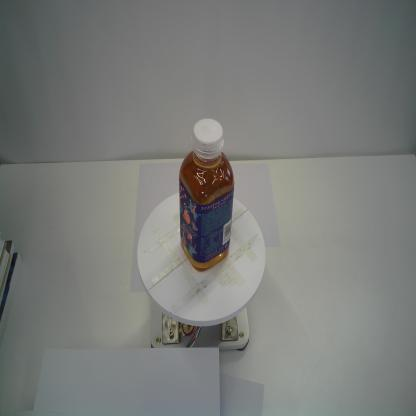Drink: (176, 117, 236, 274)
